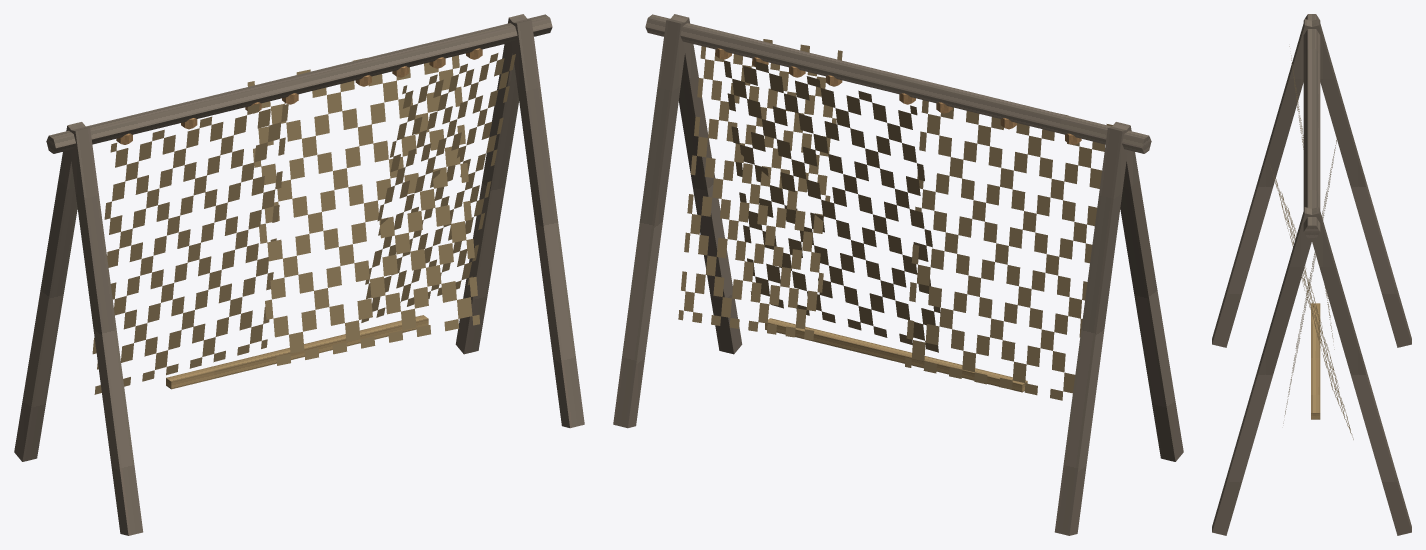
File: net-rack.glb
The picture shows the model from 3 angles, left to right: view 1: azimuth 30°, elevation 25°; view 2: azimuth 150°, elevation 25°; view 3: azimuth 270°, elevation 25°; orthographic projection. The views are drawn at different scales.
Parts seen in each view (by area): view 1: net-rack.001; view 2: net-rack.001; view 3: net-rack.001.
Boxes of the visible parts, x1,y1,x2,y2 form: net-rack.001: [14, 14, 584, 535]; net-rack.001: [613, 14, 1183, 535]; net-rack.001: [1212, 14, 1411, 535].
Bounding box in the file's own units: 2.7 × 1.92 × 1.08.
1 material, 1 textured.
